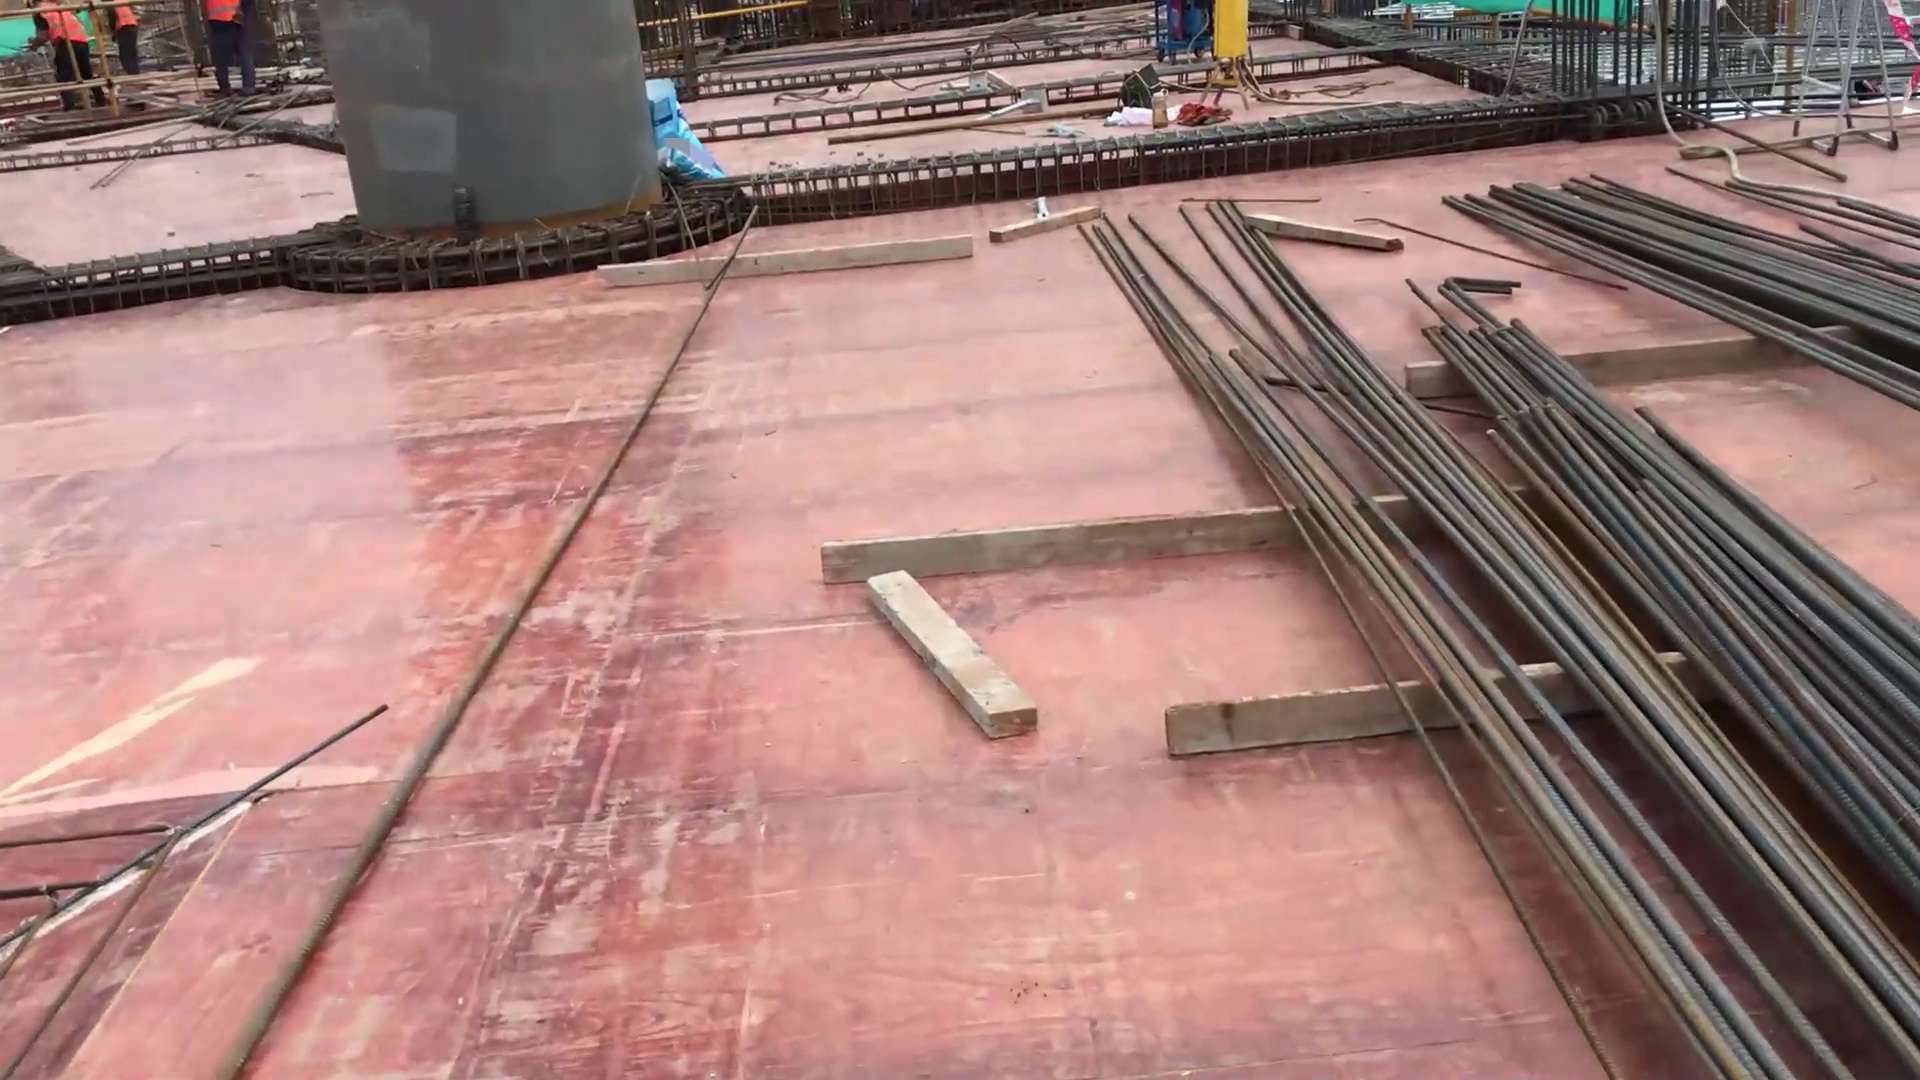ebox: (1191, 1, 1284, 114)
person: (17, 3, 96, 82), (196, 1, 265, 92), (105, 3, 140, 78)
rebar: (1069, 183, 1920, 1071)
vest: (27, 1, 89, 45), (200, 1, 240, 29), (112, 1, 139, 28)
